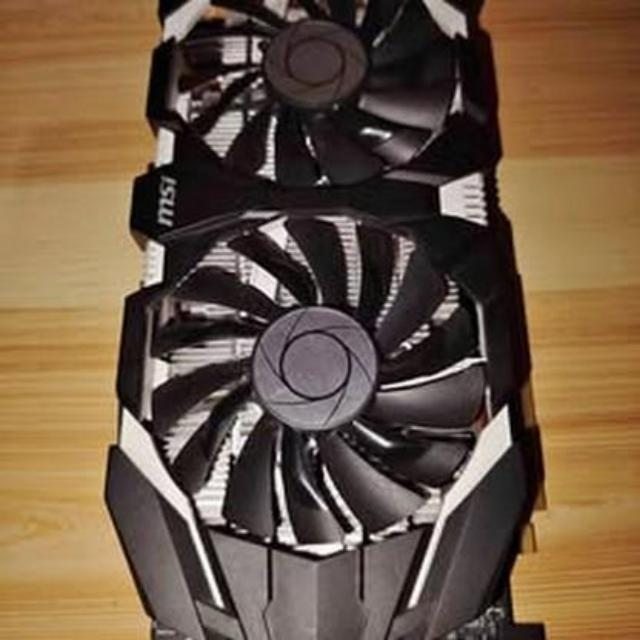GPU: (100, 0, 552, 640)
